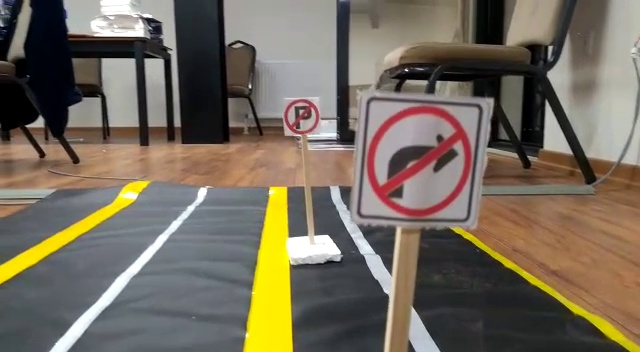park_yapilmaz: (280, 96, 321, 137)
saga_donulmez: (359, 94, 477, 220)
